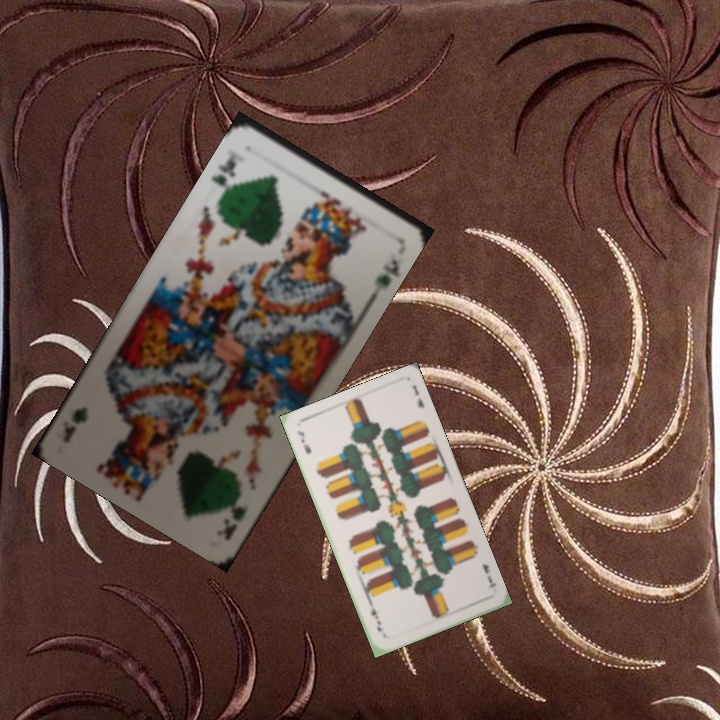E7: (478, 559, 499, 591), (293, 426, 314, 457)
GK: (207, 151, 239, 199), (213, 500, 249, 542)
